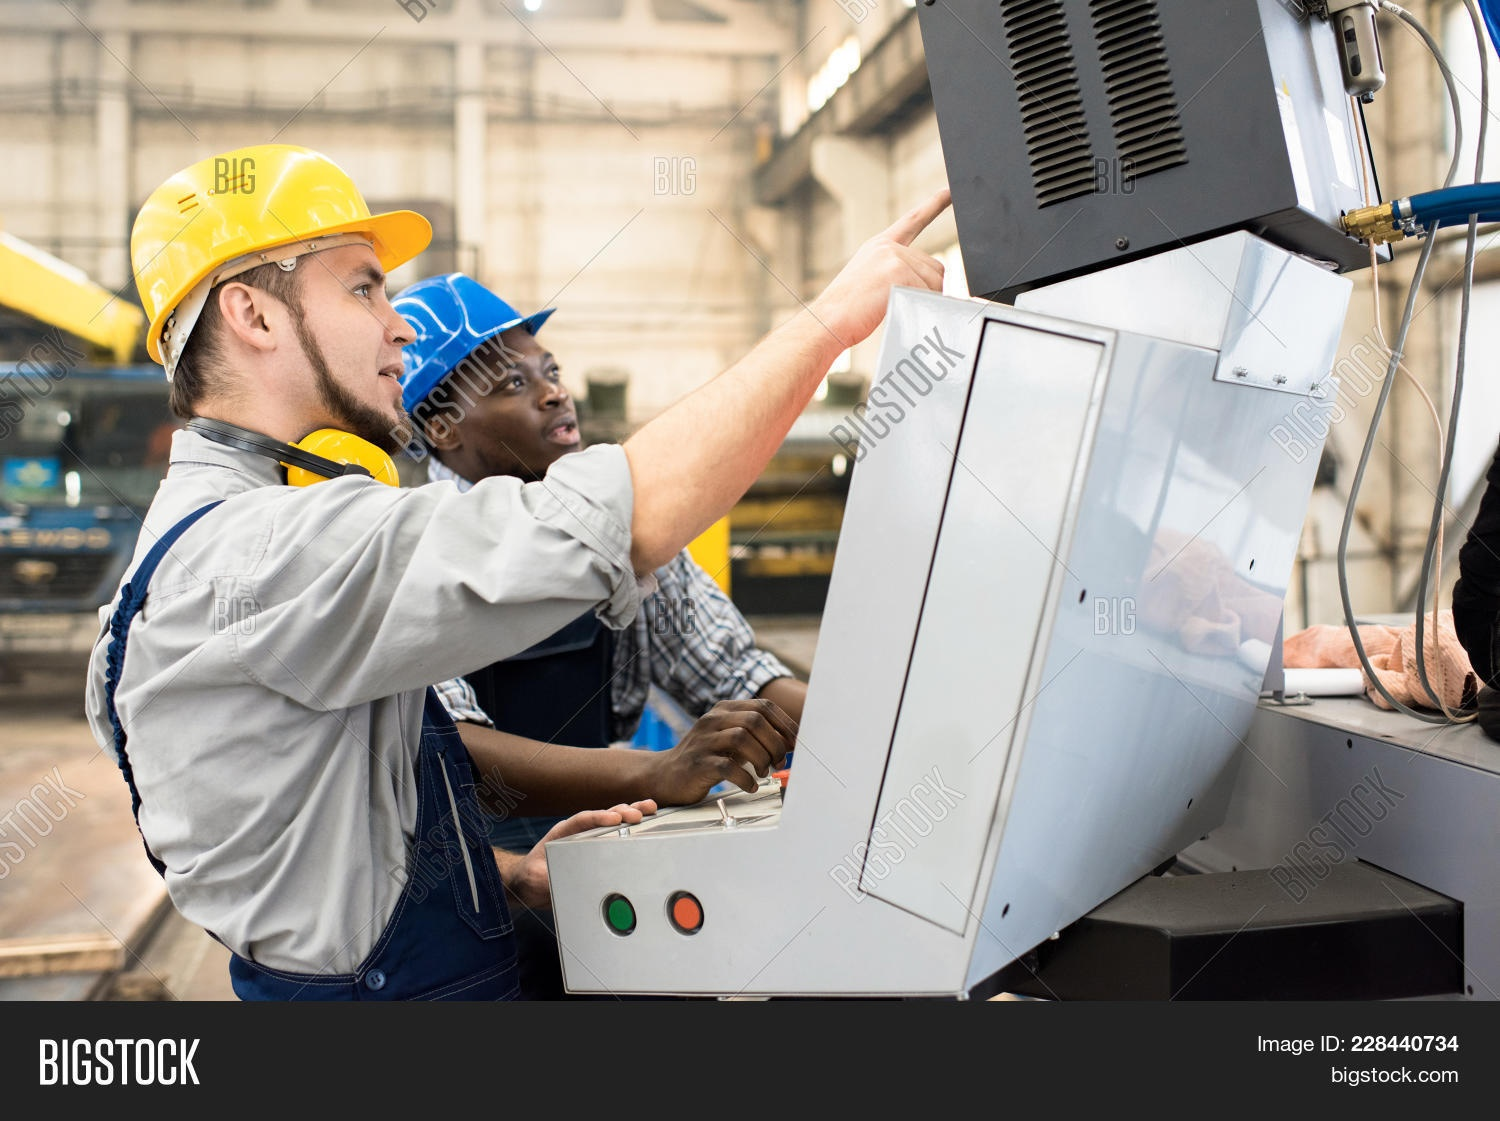blue: (372, 263, 586, 480)
yellow: (124, 138, 412, 465)
